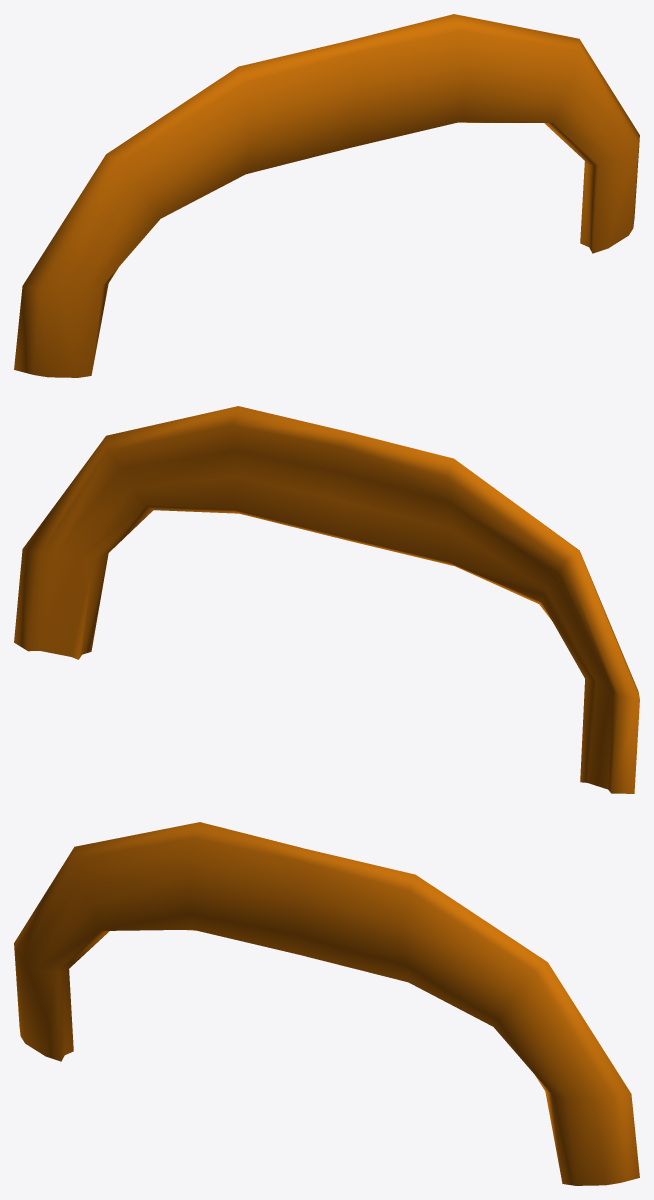
File: normal beard.fbx
The picture shows the model from 3 angles, top to bottom: view 1: azimuth 30°, elevation 25°; view 2: azimuth 150°, elevation 25°; view 3: azimuth 330°, elevation 25°; orthographic projection.
Visible parts, largest first — view 1: pPlane14; view 2: pPlane14; view 3: pPlane14.
Part boxes in pixels (bbox=[...]): pPlane14: bbox=[14, 14, 639, 377]; pPlane14: bbox=[14, 406, 639, 793]; pPlane14: bbox=[14, 822, 639, 1185].
Size of the model in its own units: 168 by 71.64 by 18.06.
